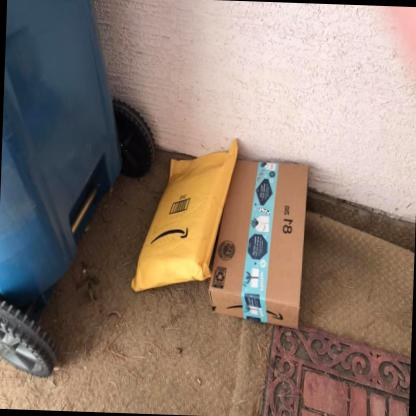box: (208, 151, 311, 331)
envelope: (123, 140, 239, 295)
